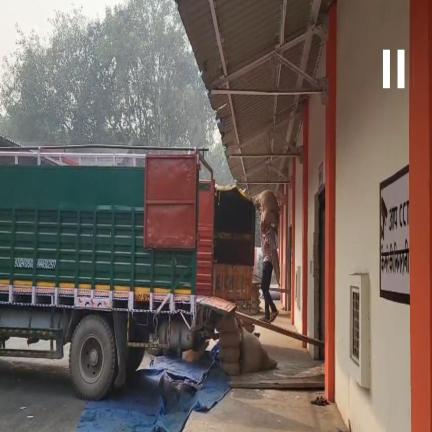Zone-Counting: (255, 189, 280, 322)
